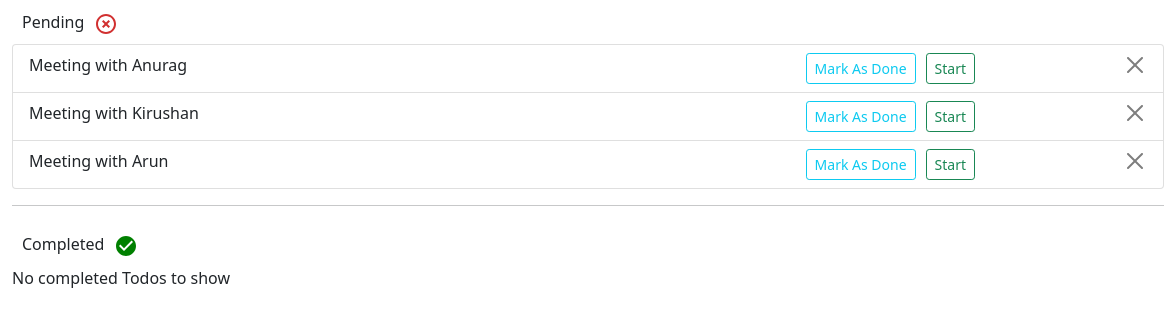
Test: TodoList › Remove a todo from completed list
Click the button "Start" in the row of "Meeting with Anurag": (950, 68) x1=926 y1=53 x2=975 y2=84
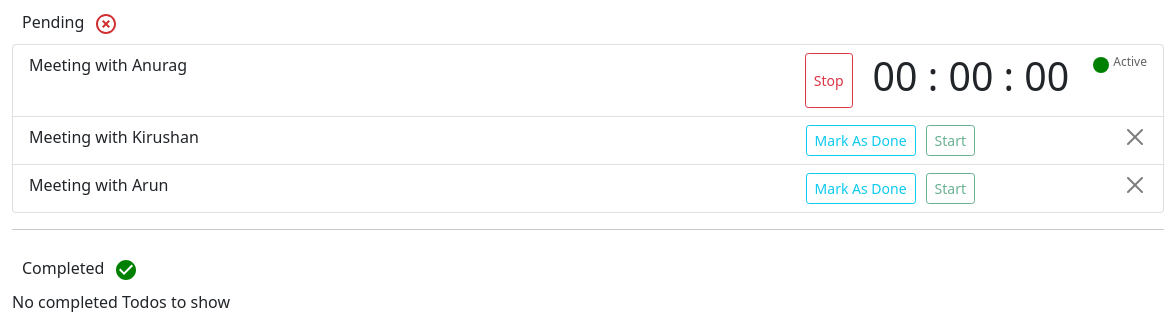
Now the list item "Meeting with Anurag Stop 00 : 00 : 00 Active" is shown, box x1=12 y1=44 x2=1163 y2=117
Click the button "Stop": (829, 81) x1=805 y1=53 x2=853 y2=108
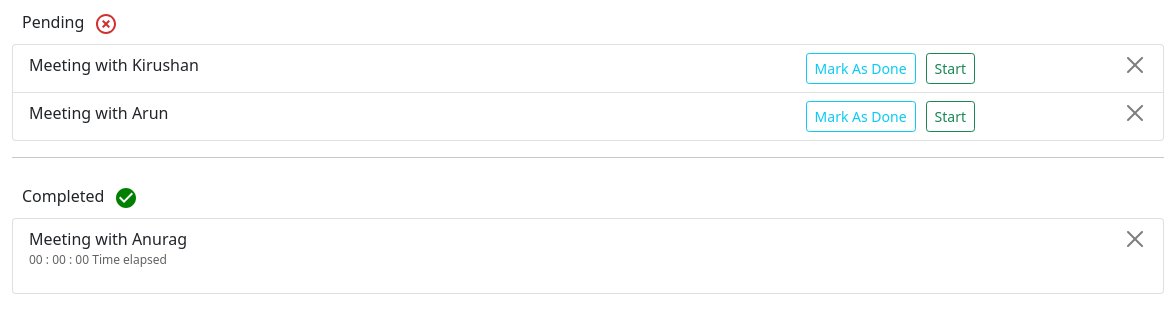
Expected: the list item "Meeting with Anurag 00 : 00 : 00 Time elapsed" is shown, x1=12 y1=218 x2=1163 y2=294
Now the number of buttons named "Close" is 3
Click the button named "Close" in the row of "Meeting with Anurag": (1135, 239) x1=1123 y1=227 x2=1147 y2=251
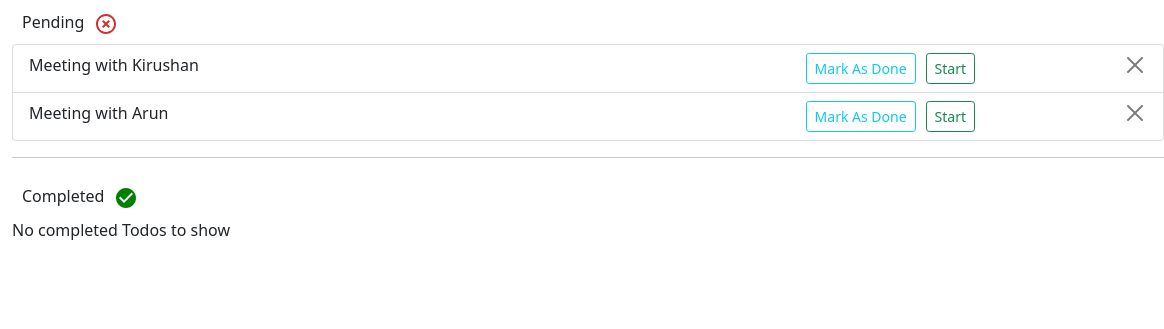
Now the list item "Meeting with Anurag 00 : 00 : 00 Time elapsed" is gone
